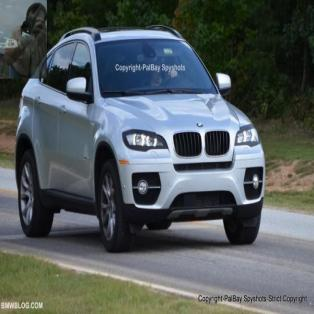Auto: (14, 23, 268, 247)
